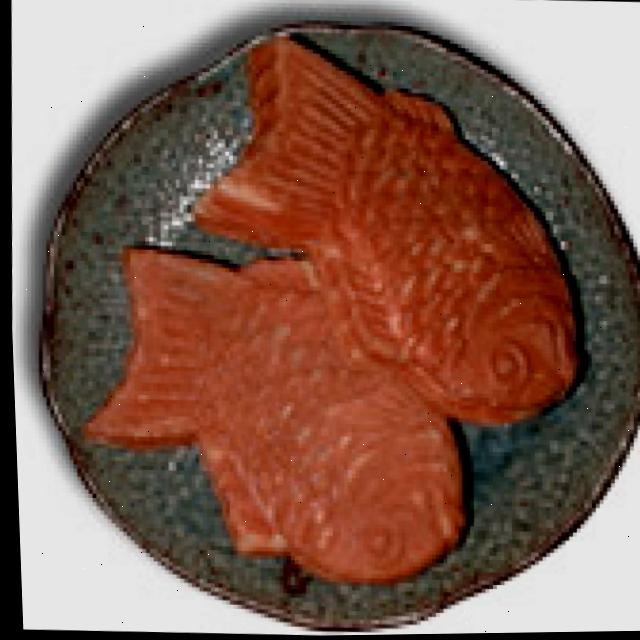熟制海鲜: (52, 26, 602, 611)
